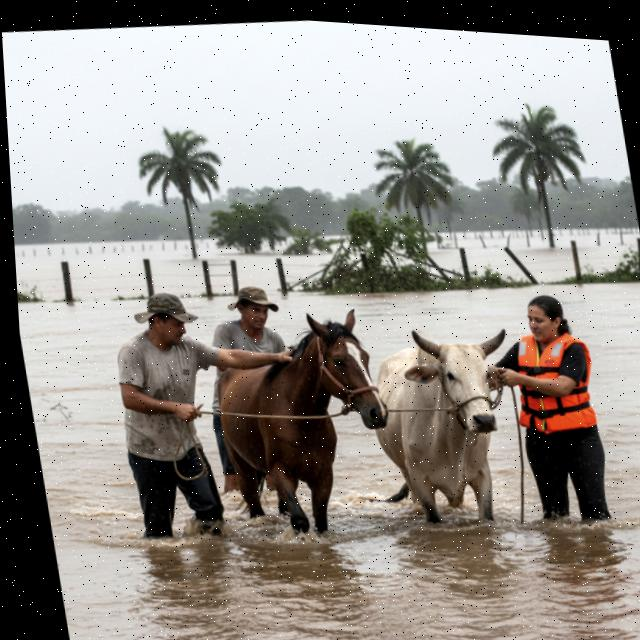civilian: (92, 270, 326, 560), (458, 283, 629, 555), (182, 268, 317, 511)
cow: (356, 300, 545, 546)
horse: (193, 285, 415, 564)
